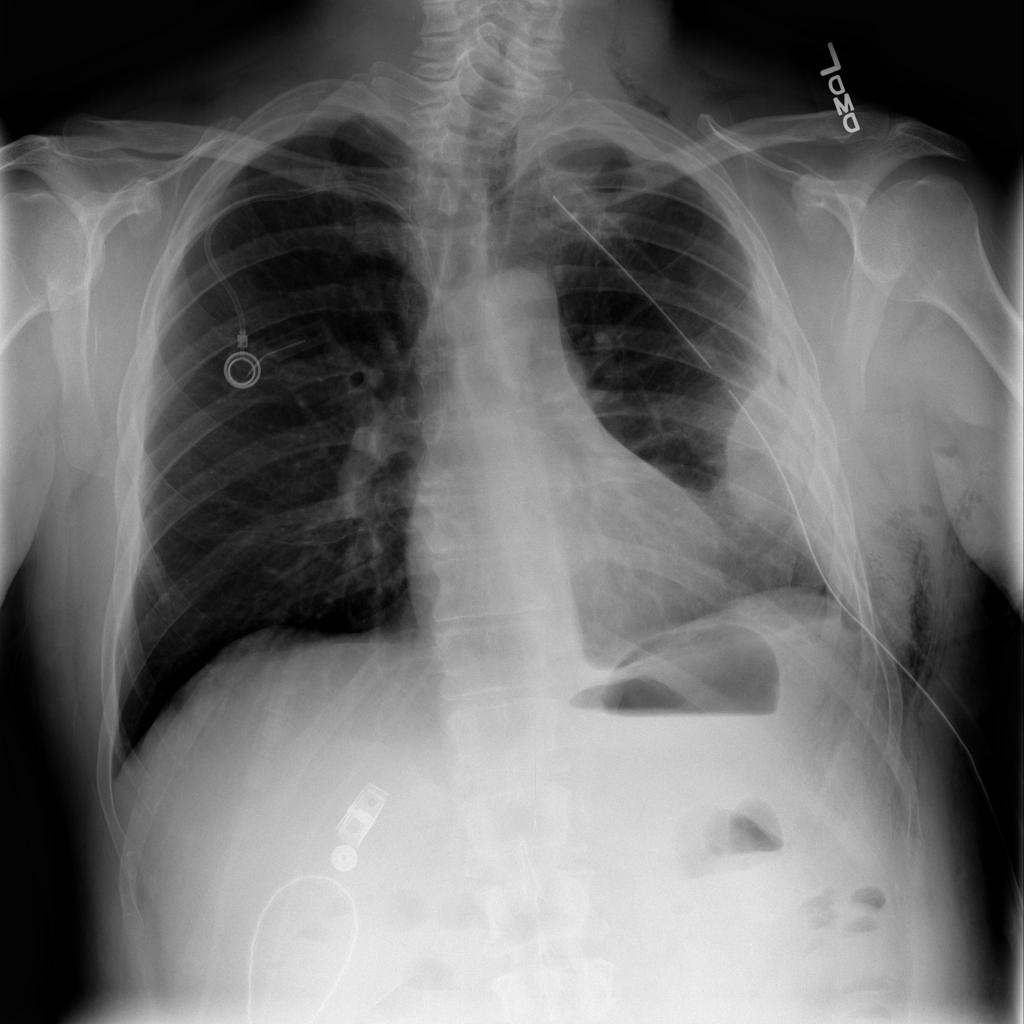nodule: (692, 372, 839, 561)
